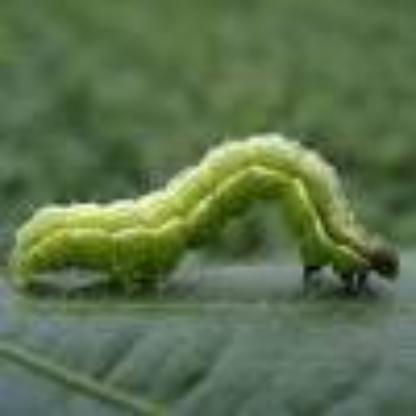oruga: (4, 138, 416, 312)
